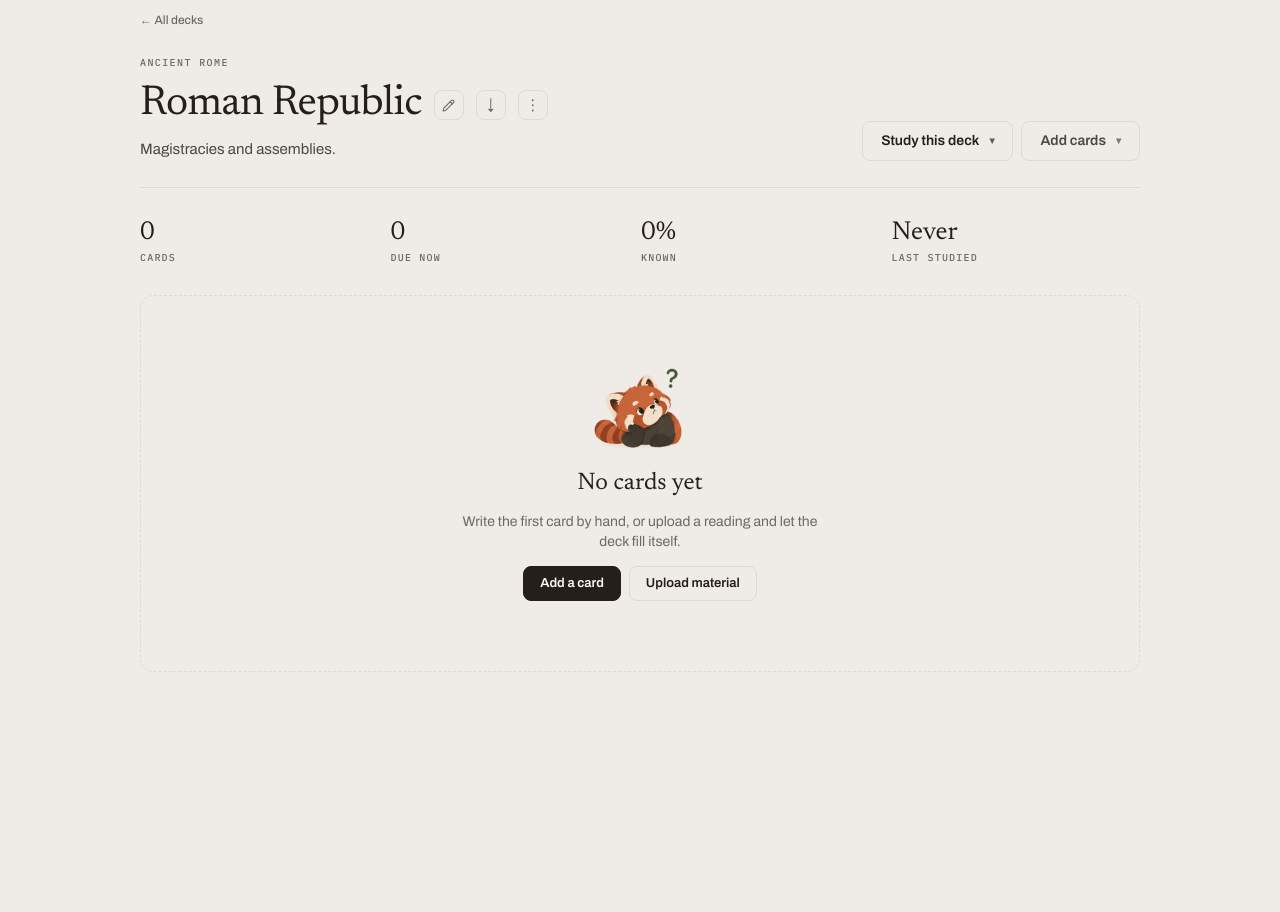
Test: starting a session › refuses to study an empty deck, and says what to do instead
Click the button "Study this deck ▾". click: (938, 141)
box: [862,121,1013,161]
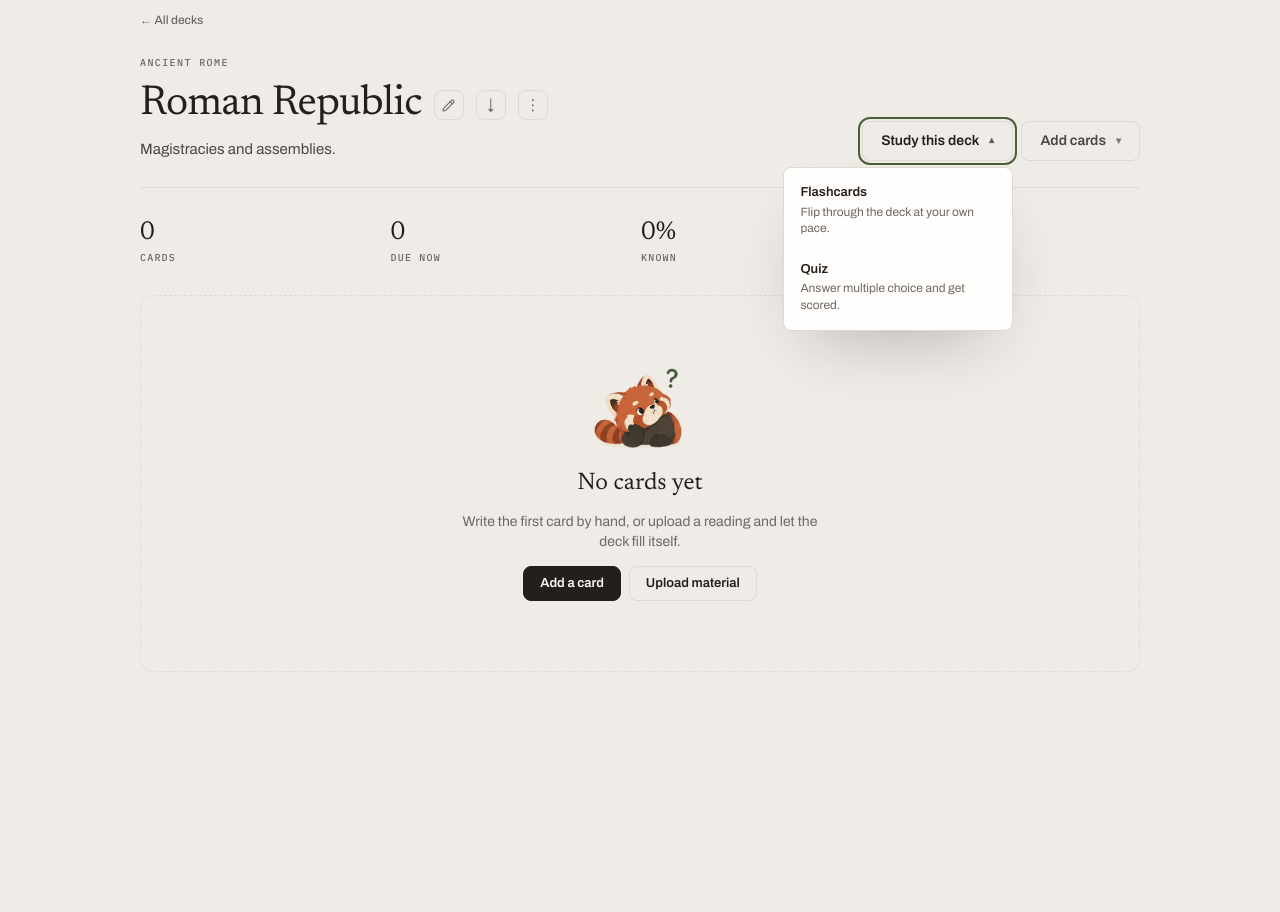
Click the button "Flashcards Flip through the deck at your own pace.". click: (898, 211)
box: [789,173,1007,248]
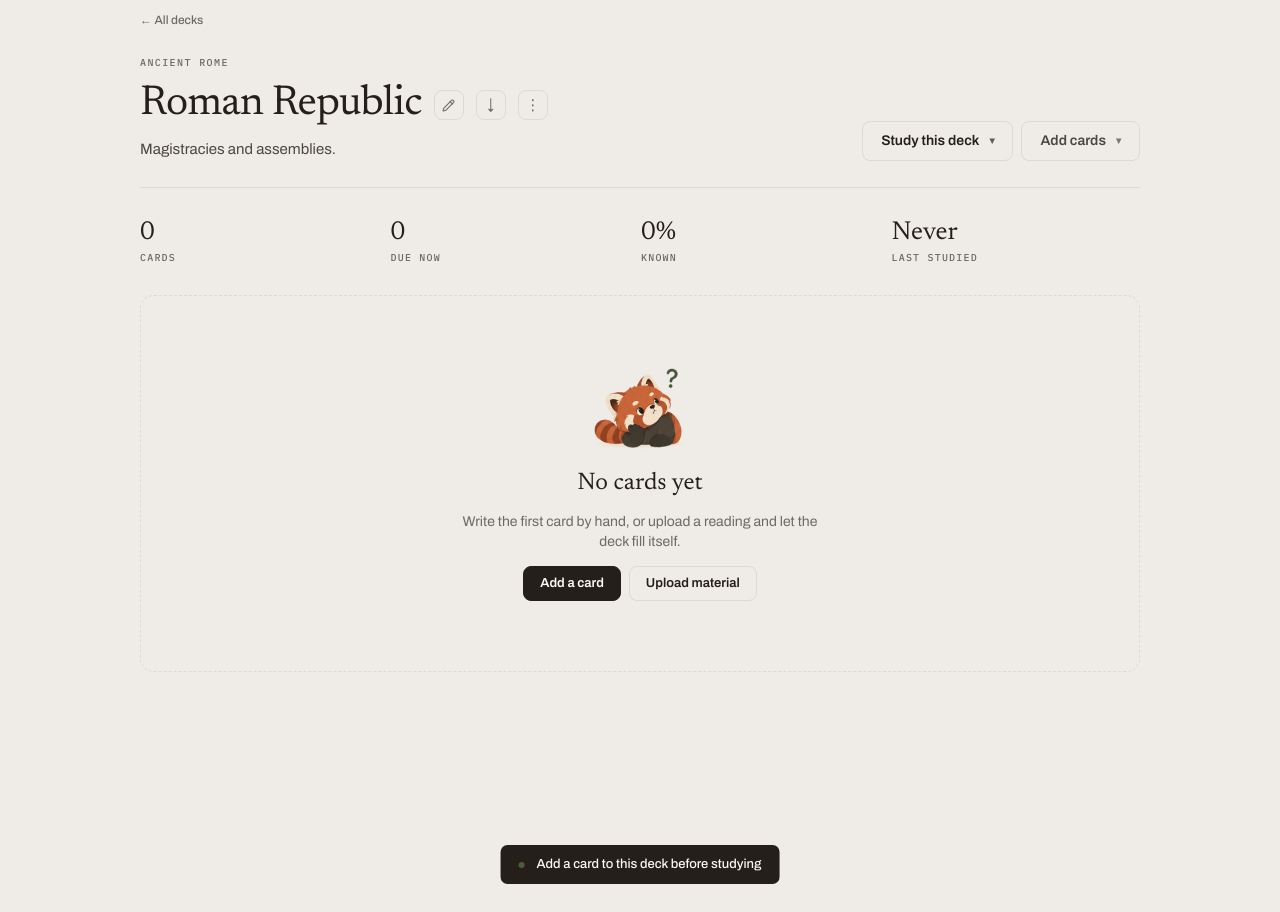
Check: the text "Add a card to this deck before studying" is shown, box [537,858,762,871]
